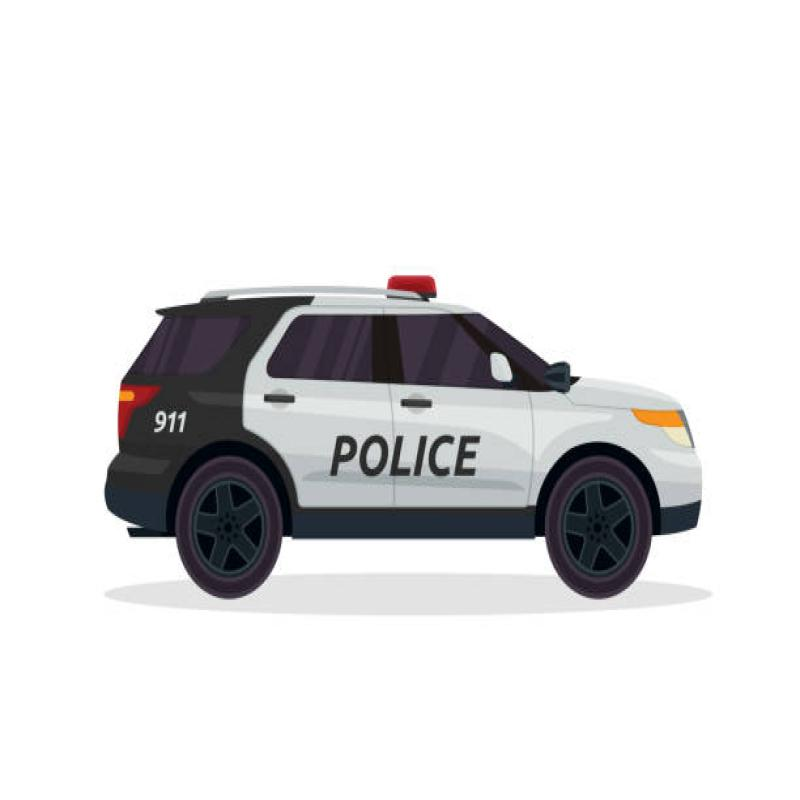AmbulanceSiren: (376, 258, 446, 305)
car: (75, 286, 729, 624)
